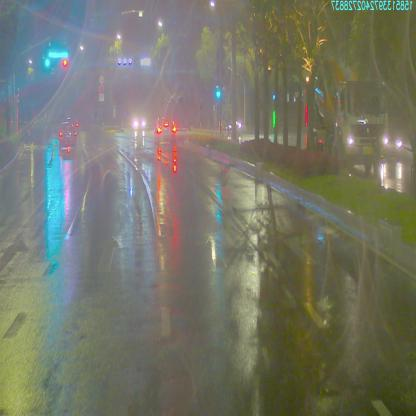traffic-light: (48, 49, 69, 59), (62, 58, 68, 67), (44, 60, 50, 68)
